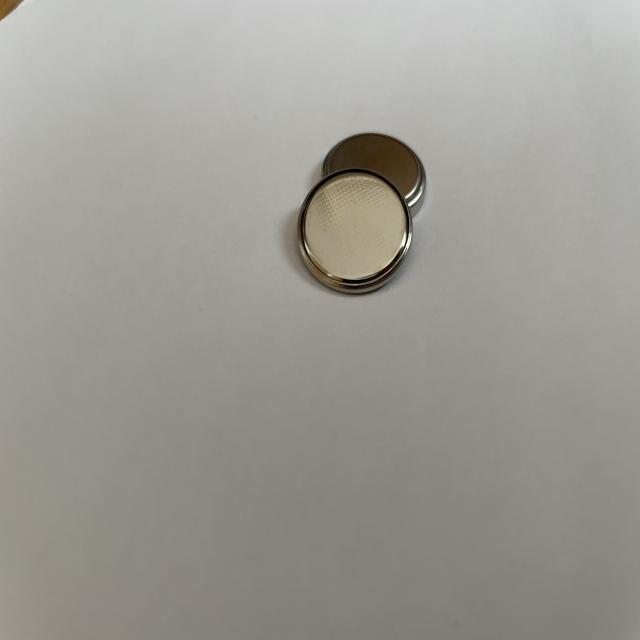COIN: (297, 170, 413, 296), (321, 133, 426, 214)
